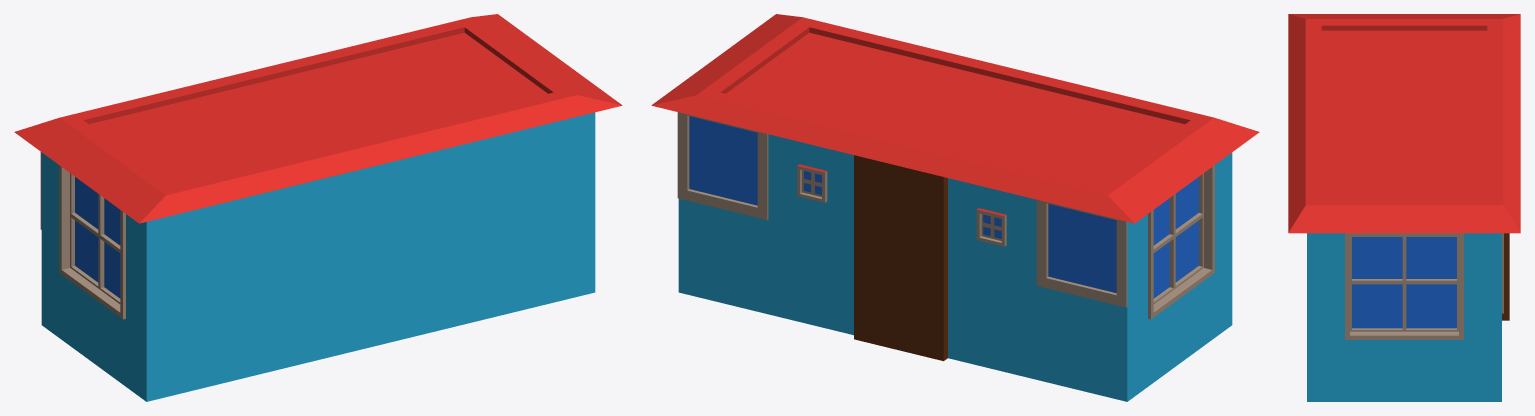
File: Station Light Blue.fbx
3 views of the same model, side by side, from view 1: azimuth 30°, elevation 25°; view 2: azimuth 150°, elevation 25°; view 3: azimuth 270°, elevation 25° (orthographic). The views are drawn at different scales.
Parts seen in each view (by area): view 1: Cube.008; view 2: Cube.008; view 3: Cube.008.
Boxes of the visible parts, x1,y1,x2,y2 form: Cube.008: (14, 14, 622, 401); Cube.008: (651, 14, 1259, 401); Cube.008: (1288, 14, 1520, 401).
Size of the model in its own units: 3261 by 1304 by 1461.
